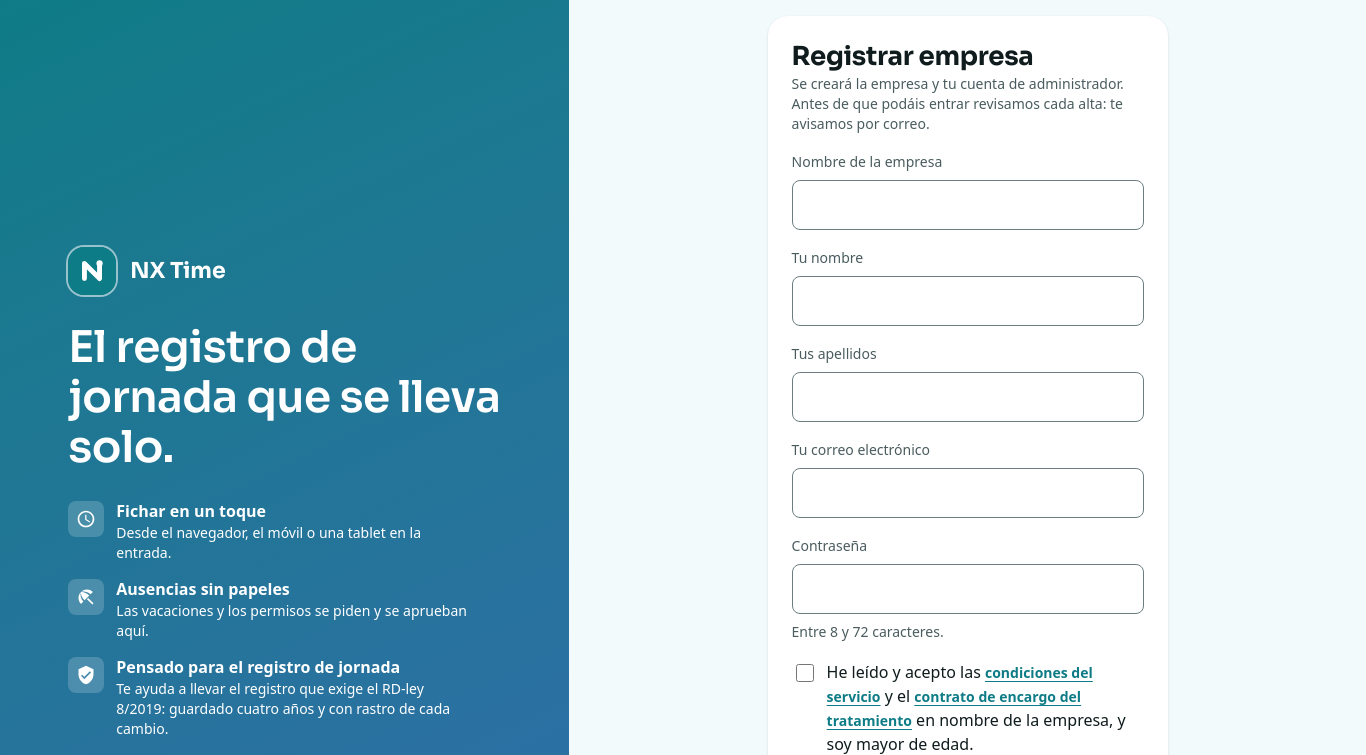
Test: registrar una empresa › con algún campo vacío no se manda nada
The image size is (1366, 755).
Step 1. Type "Talleres Eva SL" into the field labelled "Nombre de la empresa" → [968, 205], box [792,180,1144,230]
(page scrolled)
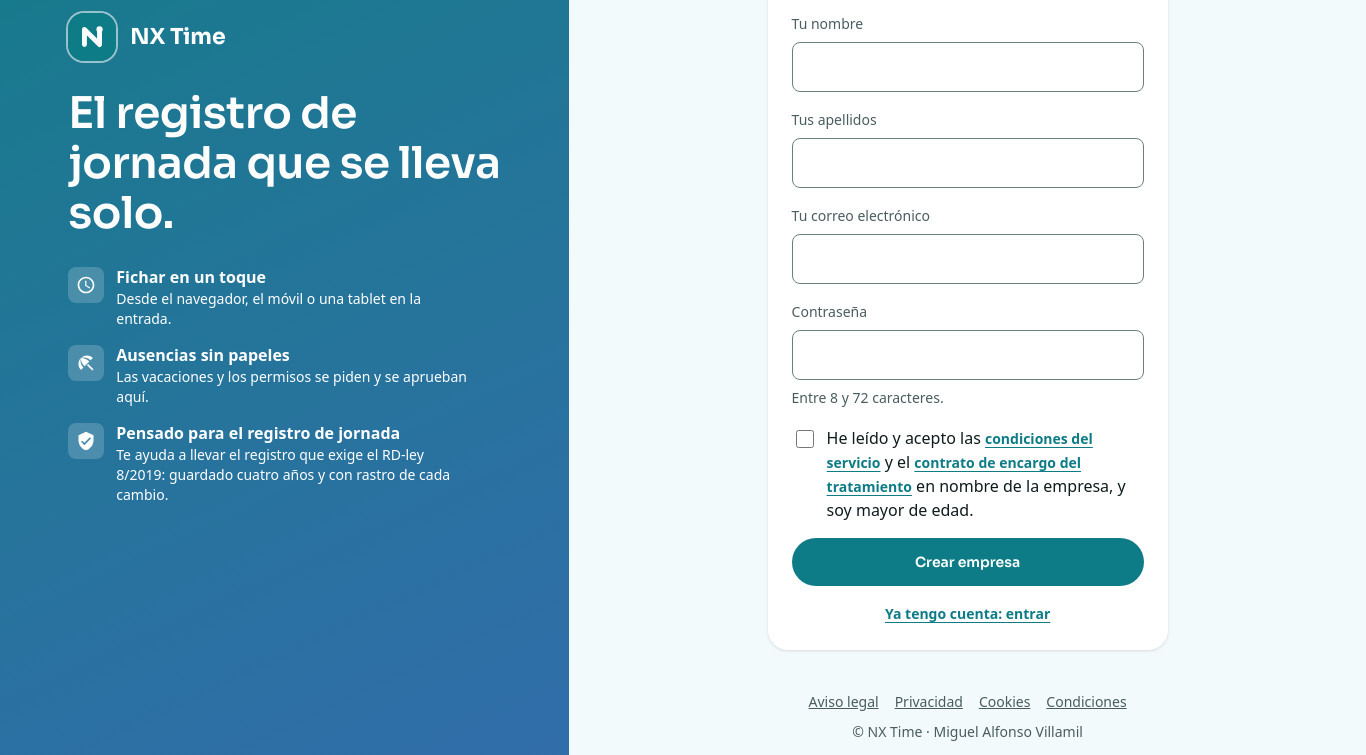
Step 2. Click the button "Crear empresa" → [968, 562], box [792,538,1144,586]
(page scrolled)
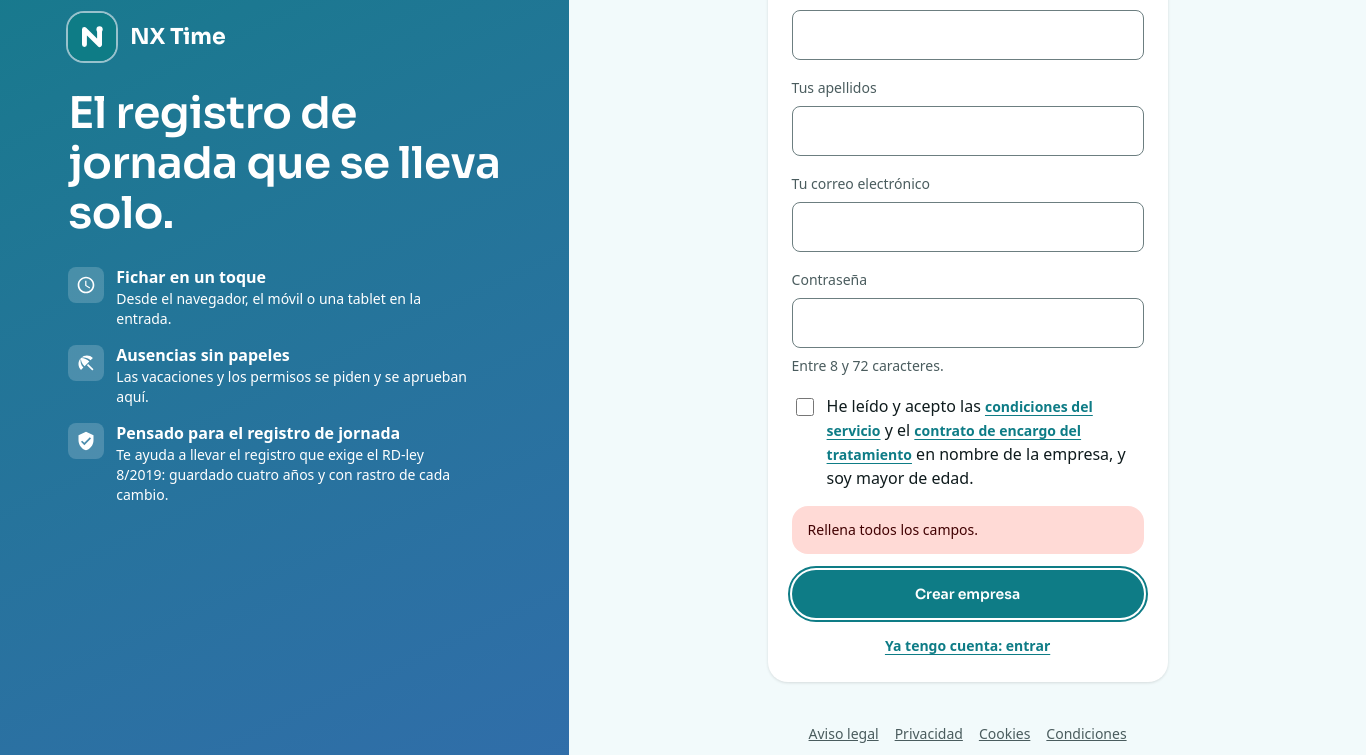
Expected: the message reads "Rellena todos los campos.", [808,520,978,539]
